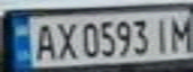0: (78, 18, 100, 60)
3: (130, 16, 154, 56)
5: (97, 18, 118, 58)
9: (115, 17, 136, 57)
A: (27, 20, 60, 62)
I: (148, 15, 172, 54)
M: (166, 12, 193, 53)
X: (51, 18, 81, 61)
